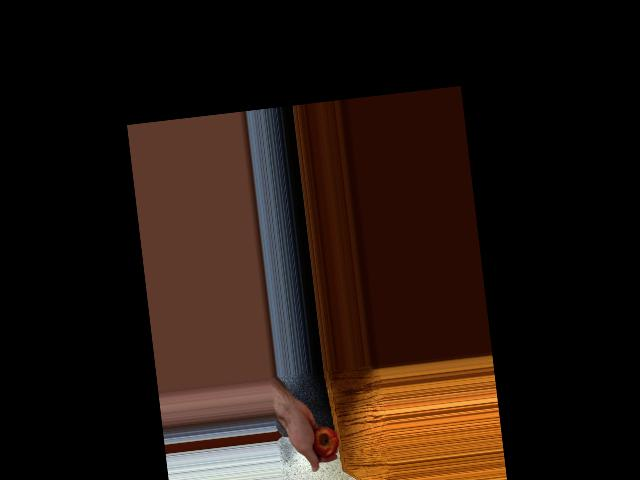apple: (307, 423, 341, 460)
